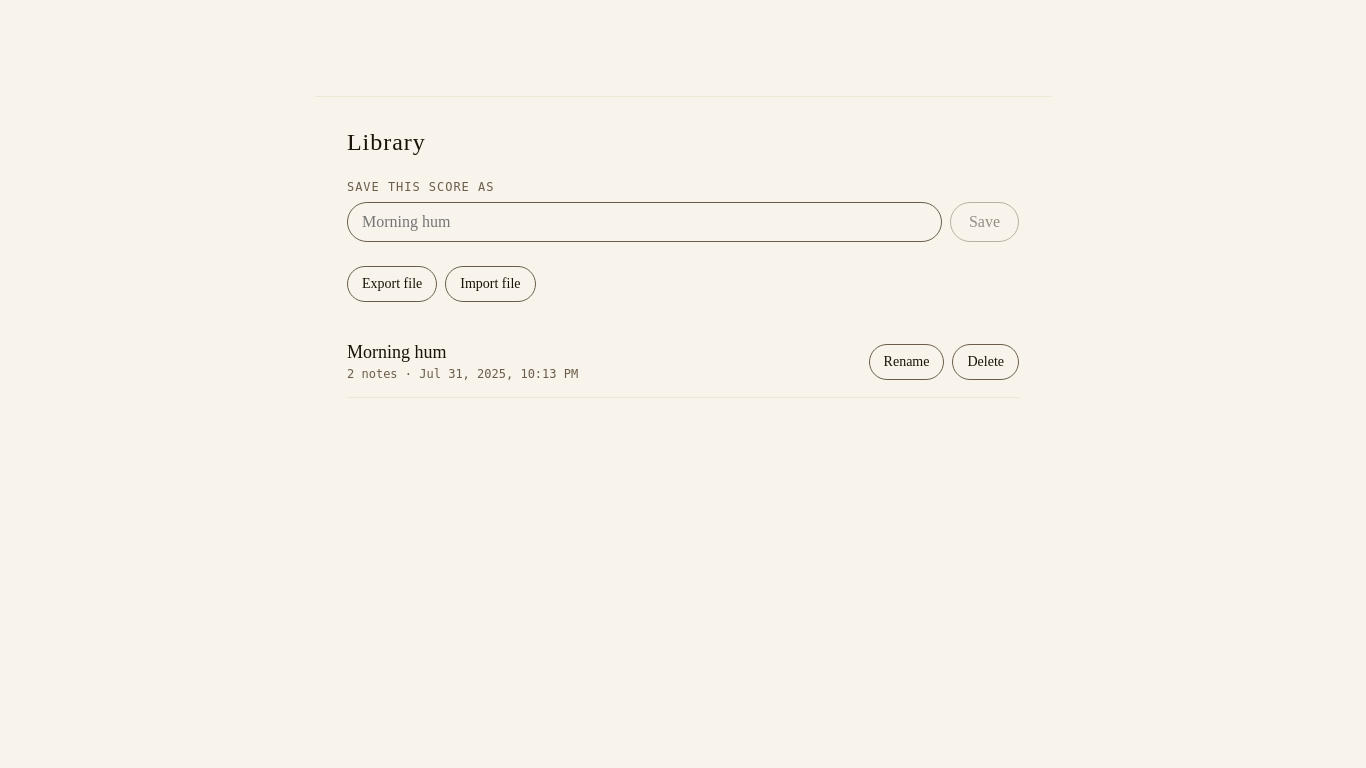
LibraryPanel: deleting › asks before deleting rather than deleting on the first click
Click the button "Delete".
click(986, 362)  # box [952,344,1019,380]
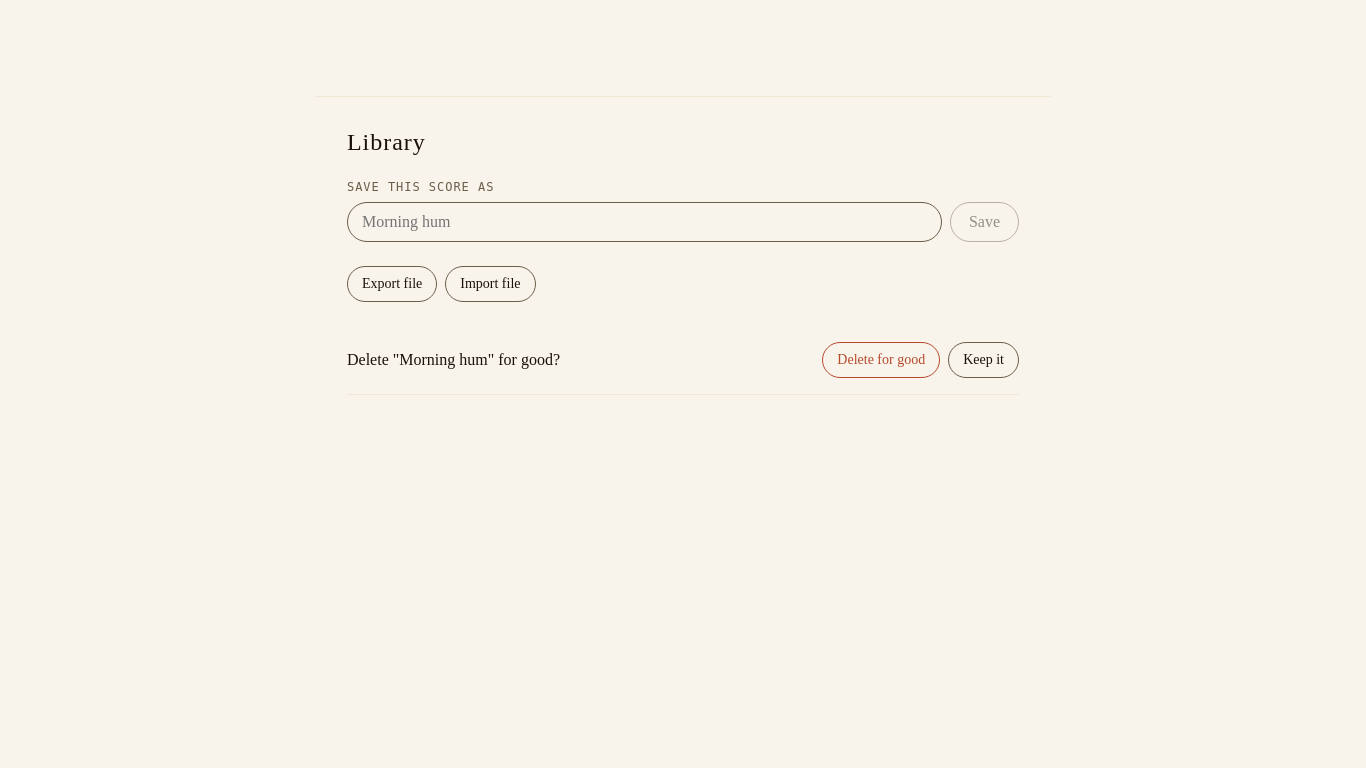
Now the text "Delete \"Morning hum\" for good?" is shown, box [347,351,560,369]
